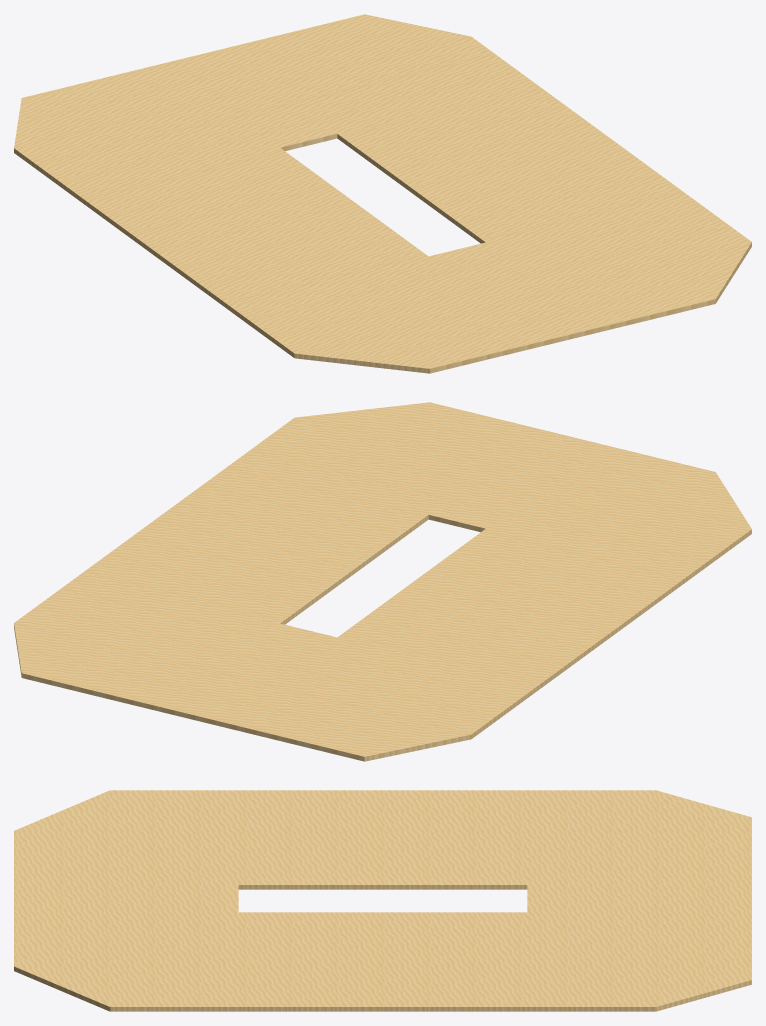
The model's file is seabed-16-BU_YfSON.glb.
3 views of the same model, one above another, from view 1: azimuth 30°, elevation 25°; view 2: azimuth 150°, elevation 25°; view 3: azimuth 270°, elevation 25° (orthographic). The views are drawn at different scales.
Visible parts, largest first — view 1: SW_SandShelf; view 2: SW_SandShelf; view 3: SW_SandShelf.
Boxes of the visible parts, x1,y1,x2,y2 form: SW_SandShelf: [14, 14, 751, 373]; SW_SandShelf: [14, 402, 751, 761]; SW_SandShelf: [14, 790, 751, 1011].
Size of what is drawn, in the model's own units: 32 by 0.32 by 46.
1 material, 1 textured.
